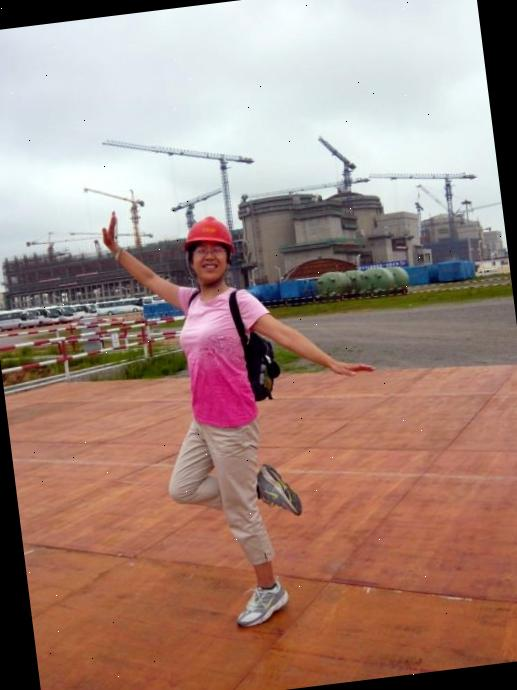helmet: (179, 212, 237, 259)
no_wear: (178, 286, 267, 433)
